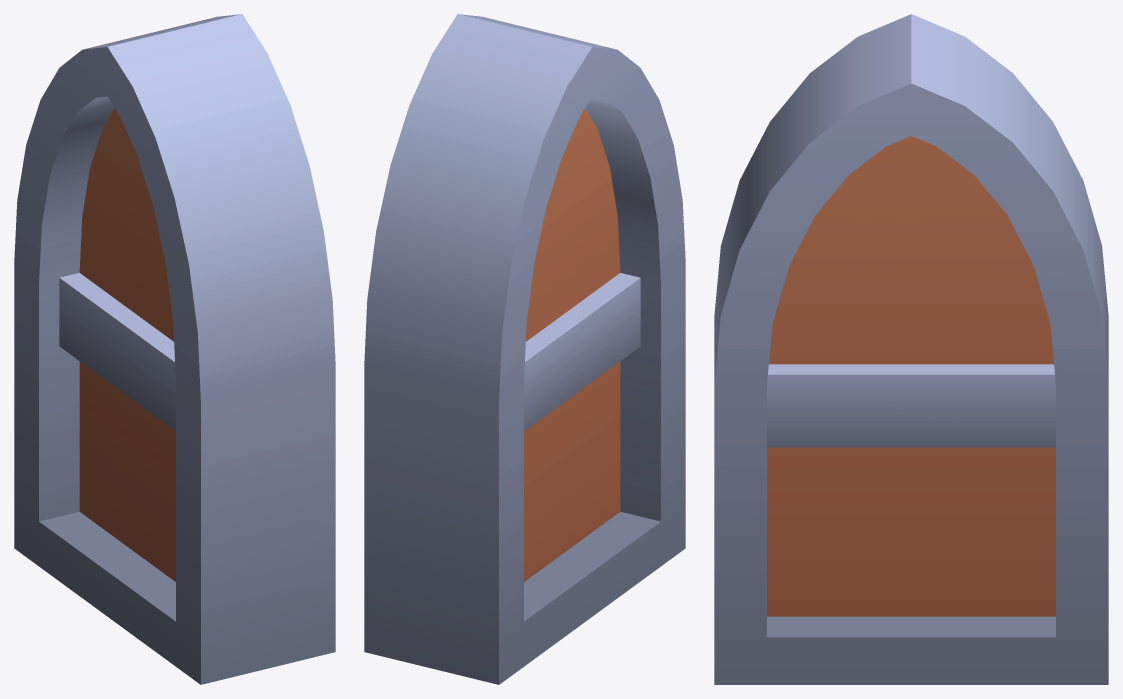
The model's file is door.glb.
The picture shows the model from 3 angles, left to right: view 1: azimuth 30°, elevation 25°; view 2: azimuth 150°, elevation 25°; view 3: azimuth 270°, elevation 25°; orthographic projection. The views are drawn at different scales.
Visible parts, largest first — view 1: door; view 2: door; view 3: door.
Part boxes in pixels (x1,y1,x2,y2): door: (14, 14, 335, 684); door: (364, 14, 685, 684); door: (714, 14, 1108, 684).
Bounding box in the file's own units: 0.15 × 0.6053 × 0.3594.
1 material, 1 textured.
